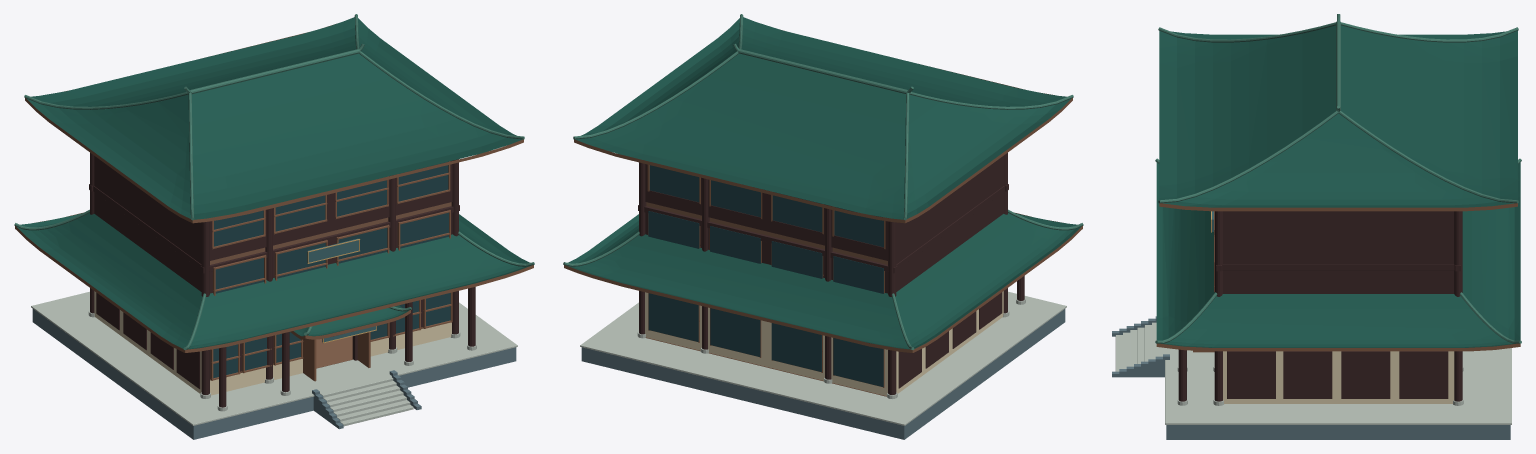
The model's file is scripture_pavilion_lod.glb.
The picture shows the model from 3 angles, left to right: view 1: azimuth 30°, elevation 25°; view 2: azimuth 150°, elevation 25°; view 3: azimuth 270°, elevation 25°; orthographic projection. The views are drawn at different scales.
Visible parts, largest first — view 1: scripture_pavilion_lod_Jade, scripture_pavilion_lod_Timber, scripture_pavilion_lod_Coping, scripture_pavilion_lod_Window, scripture_pavilion_lod_Cedar, scripture_pavilion_lod_Stone, scripture_pavilion_lod_TileLight, scripture_pavilion_lod_Plaster, scripture_pavilion_lod_Floor, scripture_pavilion_lod_Fabric; view 2: scripture_pavilion_lod_Jade, scripture_pavilion_lod_Window, scripture_pavilion_lod_Timber, scripture_pavilion_lod_Coping, scripture_pavilion_lod_Stone, scripture_pavilion_lod_Cedar, scripture_pavilion_lod_Plaster, scripture_pavilion_lod_TileLight, scripture_pavilion_lod_Floor; view 3: scripture_pavilion_lod_Jade, scripture_pavilion_lod_Timber, scripture_pavilion_lod_Coping, scripture_pavilion_lod_Stone, scripture_pavilion_lod_TileLight, scripture_pavilion_lod_Cedar, scripture_pavilion_lod_Plaster.
Boxes of the visible parts, x1=… form: scripture_pavilion_lod_Jade: x1=16, y1=17, x2=531, y2=349; scripture_pavilion_lod_Timber: x1=89, y1=153, x2=475, y2=407; scripture_pavilion_lod_Coping: x1=31, y1=291, x2=517, y2=426; scripture_pavilion_lod_Window: x1=213, y1=162, x2=450, y2=378; scripture_pavilion_lod_Cedar: x1=15, y1=25, x2=533, y2=381; scripture_pavilion_lod_Stone: x1=32, y1=309, x2=516, y2=439; scripture_pavilion_lod_TileLight: x1=14, y1=14, x2=534, y2=349; scripture_pavilion_lod_Plaster: x1=94, y1=291, x2=451, y2=395; scripture_pavilion_lod_Floor: x1=210, y1=202, x2=451, y2=368; scripture_pavilion_lod_Fabric: x1=307, y1=238, x2=375, y2=342; scripture_pavilion_lod_Jade: x1=566, y1=17, x2=1081, y2=349; scripture_pavilion_lod_Window: x1=648, y1=165, x2=883, y2=386; scripture_pavilion_lod_Timber: x1=638, y1=153, x2=1024, y2=394; scripture_pavilion_lod_Coping: x1=580, y1=291, x2=1066, y2=425; scripture_pavilion_lod_Stone: x1=581, y1=309, x2=1065, y2=439; scripture_pavilion_lod_Cedar: x1=564, y1=30, x2=1082, y2=387; scripture_pavilion_lod_Plaster: x1=645, y1=291, x2=1003, y2=395; scripture_pavilion_lod_TileLight: x1=563, y1=14, x2=1083, y2=349; scripture_pavilion_lod_Floor: x1=645, y1=202, x2=887, y2=396; scripture_pavilion_lod_Jade: x1=1156, y1=25, x2=1520, y2=347; scripture_pavilion_lod_Timber: x1=1178, y1=211, x2=1462, y2=401; scripture_pavilion_lod_Coping: x1=1115, y1=322, x2=1511, y2=424; scripture_pavilion_lod_Stone: x1=1112, y1=316, x2=1510, y2=439; scripture_pavilion_lod_TileLight: x1=1155, y1=14, x2=1521, y2=343; scripture_pavilion_lod_Cedar: x1=1156, y1=203, x2=1520, y2=352; scripture_pavilion_lod_Plaster: x1=1223, y1=351, x2=1454, y2=403.
Size of the model in its own units: 23.94 by 18.02 by 22.62.
